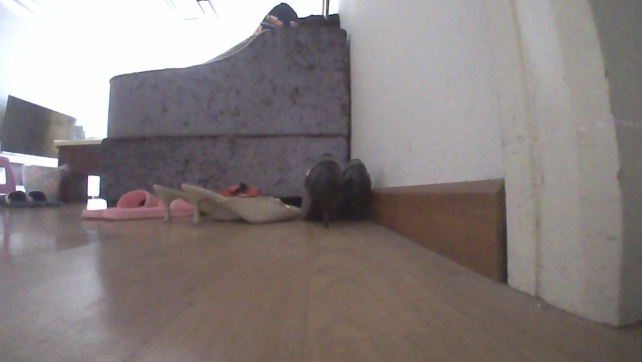shoe: (180, 180, 302, 225)
slipper: (78, 187, 195, 221), (0, 188, 65, 210)
sofa1: (95, 0, 356, 209)
